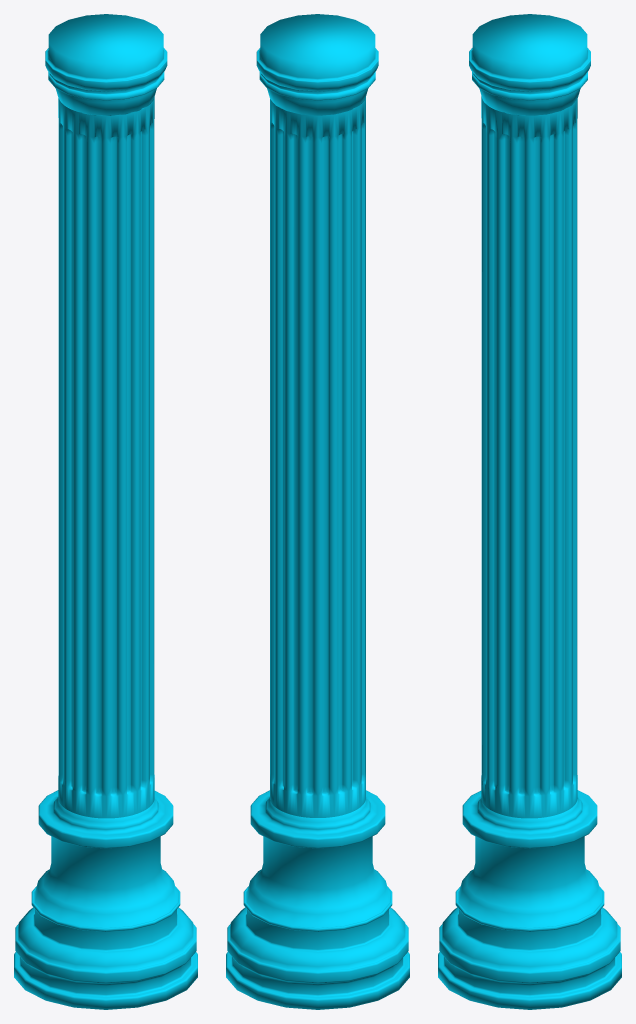
The model's file is Pillar_low.fbx.
The picture shows the model from 3 angles, left to right: view 1: azimuth 30°, elevation 25°; view 2: azimuth 150°, elevation 25°; view 3: azimuth 270°, elevation 25°; orthographic projection.
Parts seen in each view (by area): view 1: Middle_low, Bottom_low, Top_low; view 2: Middle_low, Bottom_low, Top_low; view 3: Middle_low, Bottom_low, Top_low.
Part boxes in pixels (x1,y1,x2,y2): Middle_low: [58, 97, 154, 818]; Bottom_low: [14, 790, 197, 1009]; Top_low: [45, 14, 167, 115]; Middle_low: [270, 97, 365, 817]; Bottom_low: [226, 790, 409, 1009]; Top_low: [256, 14, 378, 115]; Middle_low: [481, 96, 577, 818]; Bottom_low: [438, 790, 621, 1009]; Top_low: [469, 14, 590, 115].
Size of the model in its own units: 1600 by 8806 by 1576.
